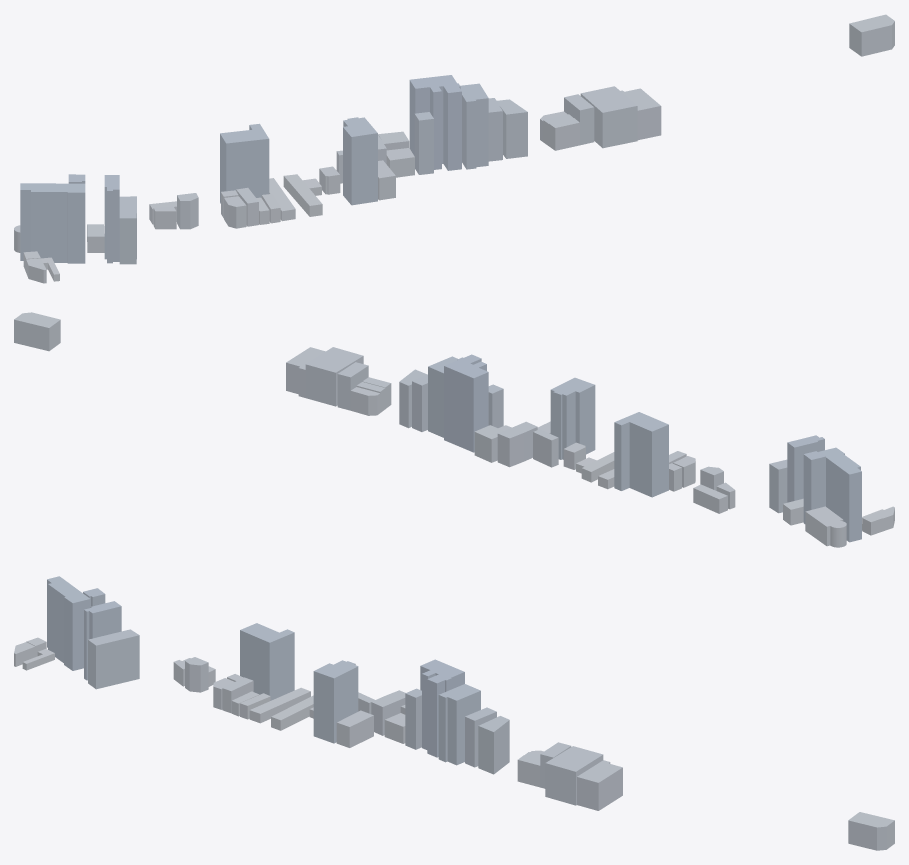
3 views of the same model, one above another, from view 1: azimuth 30°, elevation 25°; view 2: azimuth 150°, elevation 25°; view 3: azimuth 330°, elevation 25° (orthographic). The views are drawn at different scales.
Size of the model in its own units: 413 by 34.5 by 39.59.
